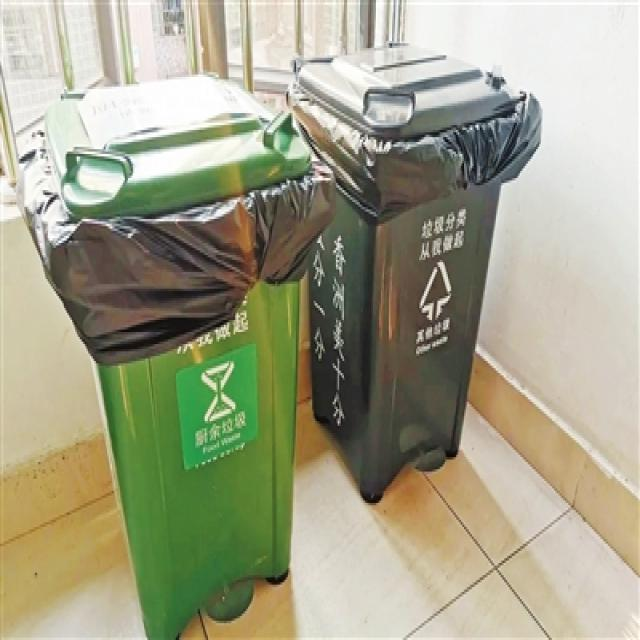garbage_bin: (10, 72, 332, 638), (285, 38, 541, 503)
